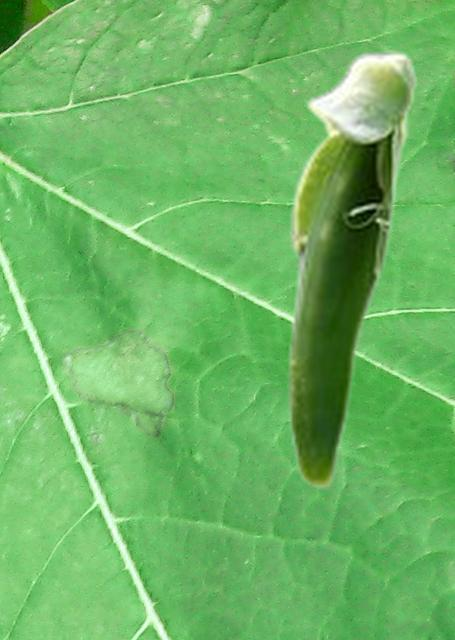pea: (286, 50, 418, 489)
